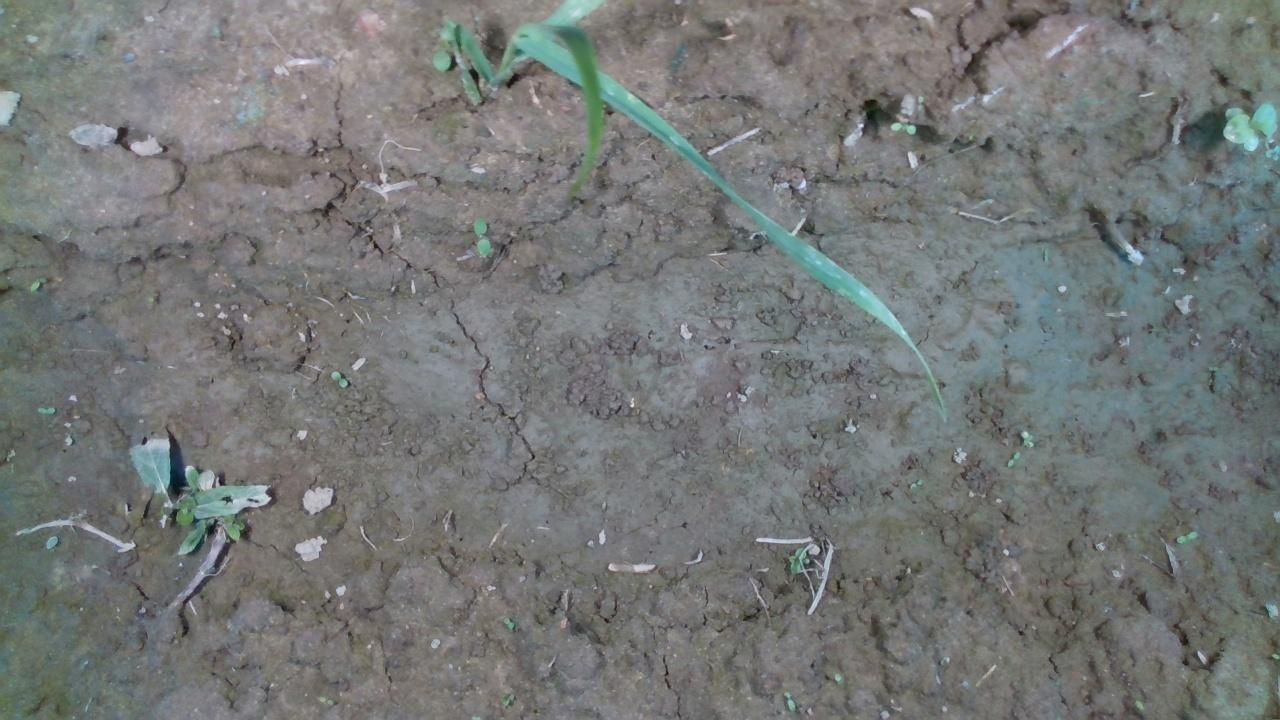weed: (459, 215, 496, 256), (322, 367, 361, 387), (1019, 426, 1048, 446), (838, 421, 863, 432)
